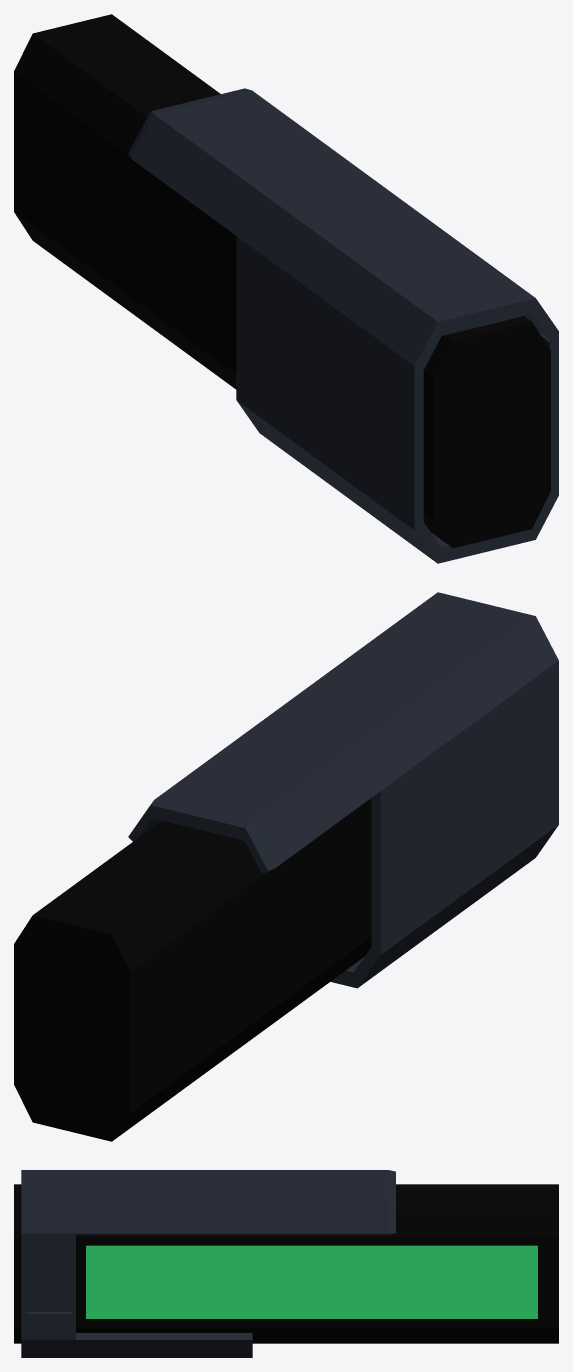
File: Button.fbx
3 views of the same model, one above another, from view 1: azimuth 30°, elevation 25°; view 2: azimuth 150°, elevation 25°; view 3: azimuth 270°, elevation 25° (orthographic). The views are drawn at different scales.
Parts seen in each view (by area): view 1: Button; view 2: Button; view 3: Button.
Boxes of the visible parts, bbox=[...] form: Button: bbox=[14, 14, 558, 563]; Button: bbox=[14, 592, 558, 1141]; Button: bbox=[14, 1170, 558, 1357].
Size of the model in its own units: 30.27 by 48.47 by 153.
